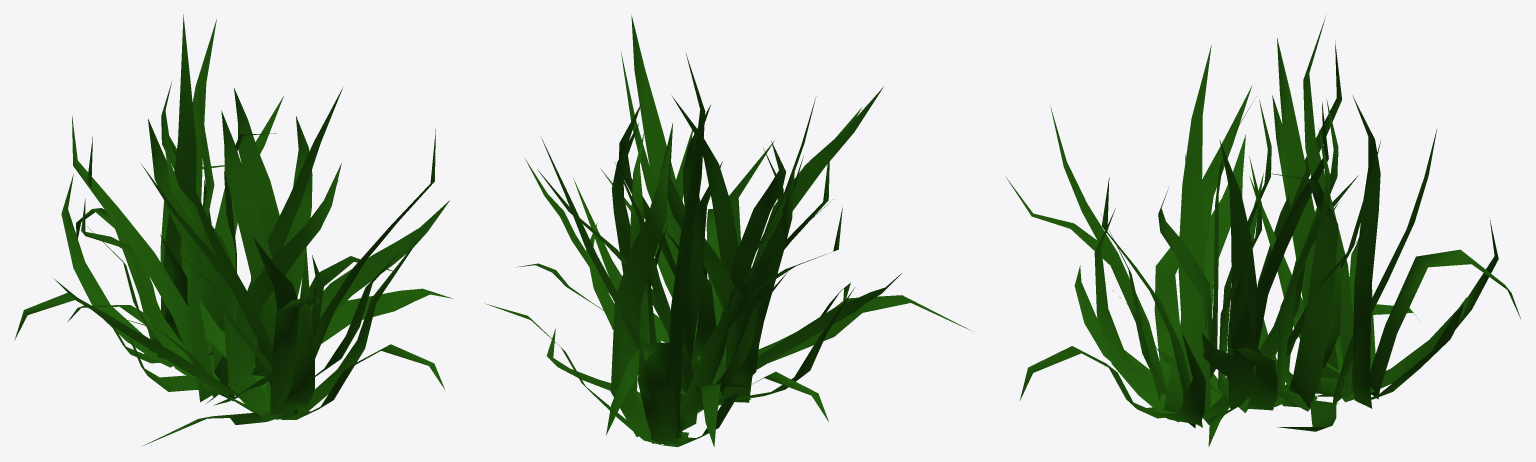
Rendered from please.fbx.
3 views of the same model, side by side, from view 1: azimuth 30°, elevation 25°; view 2: azimuth 150°, elevation 25°; view 3: azimuth 270°, elevation 25° (orthographic). The views are drawn at different scales.
Visible parts, largest first — view 1: grass1; view 2: grass1; view 3: grass1.
Boxes of the visible parts, box(x1,y1,x2,y2) form: grass1: box(14, 14, 452, 446); grass1: box(485, 14, 972, 447); grass1: box(1005, 16, 1520, 446).
Size of the model in its own units: 225 by 198 by 243.
